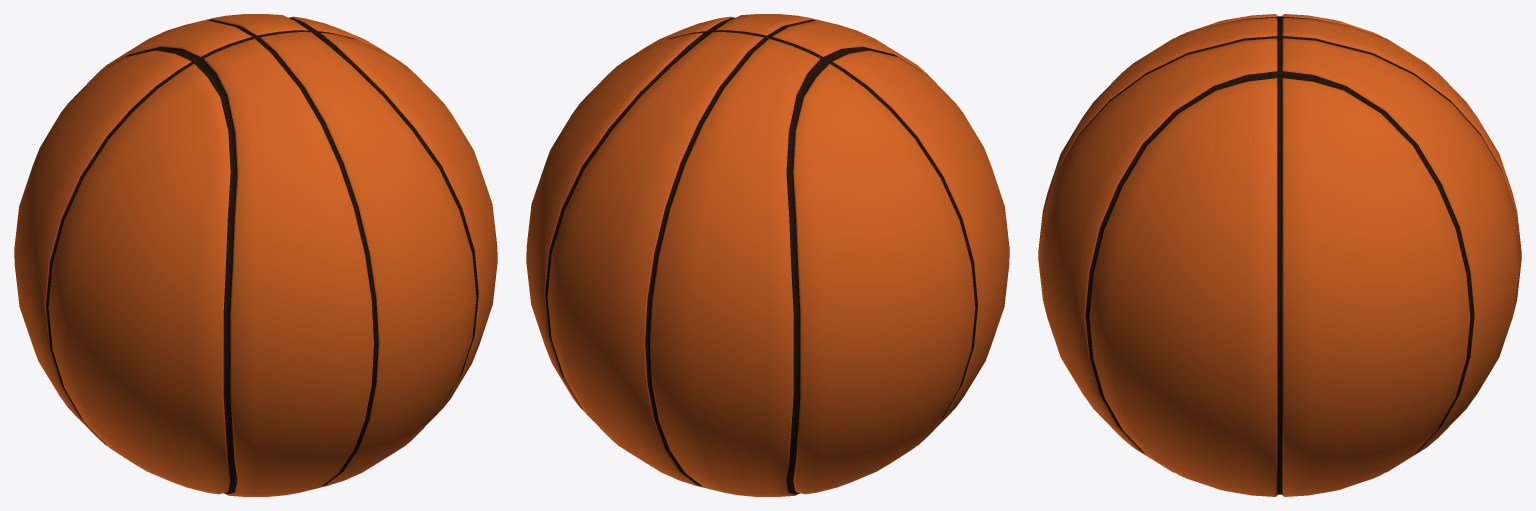
Rendered from ball.gltf.
The picture shows the model from 3 angles, left to right: view 1: azimuth 30°, elevation 25°; view 2: azimuth 150°, elevation 25°; view 3: azimuth 270°, elevation 25°; orthographic projection.
Visible parts, largest first — view 1: ball; view 2: ball; view 3: ball.
Boxes of the visible parts, bbox=[...] form: ball: bbox=[14, 14, 497, 496]; ball: bbox=[526, 14, 1009, 496]; ball: bbox=[1038, 14, 1521, 496].
Bounding box in the file's own units: 1.02 × 1.02 × 1.02.
